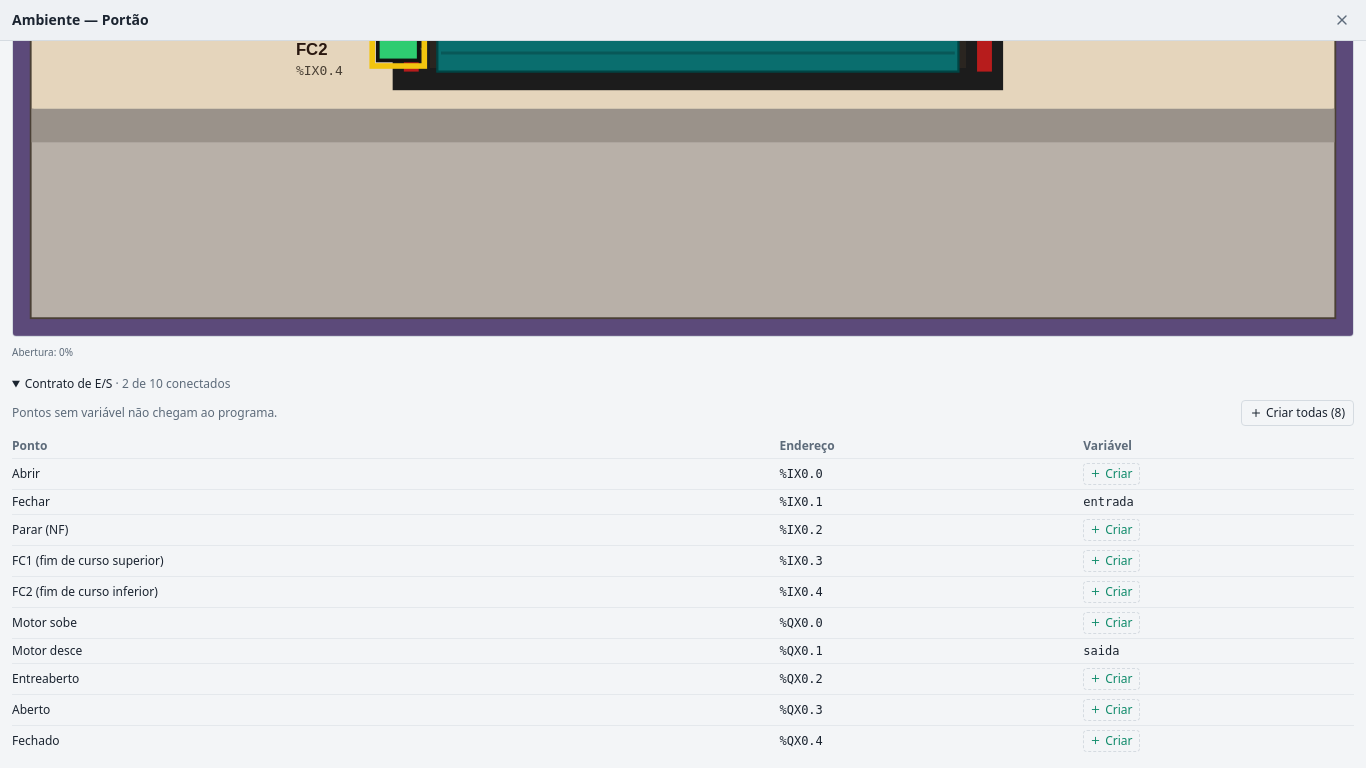
it: PainelAmbiente — contrato de E/S (revisão 2026-09-23) › recusa do núcleo fica no modal, junto do campo de nome
(page scrolled)
Step 1. Click the button with aria-label "Criar variável para Abrir (%IX0.0)" → (1111, 474), box [1083,463,1140,485]
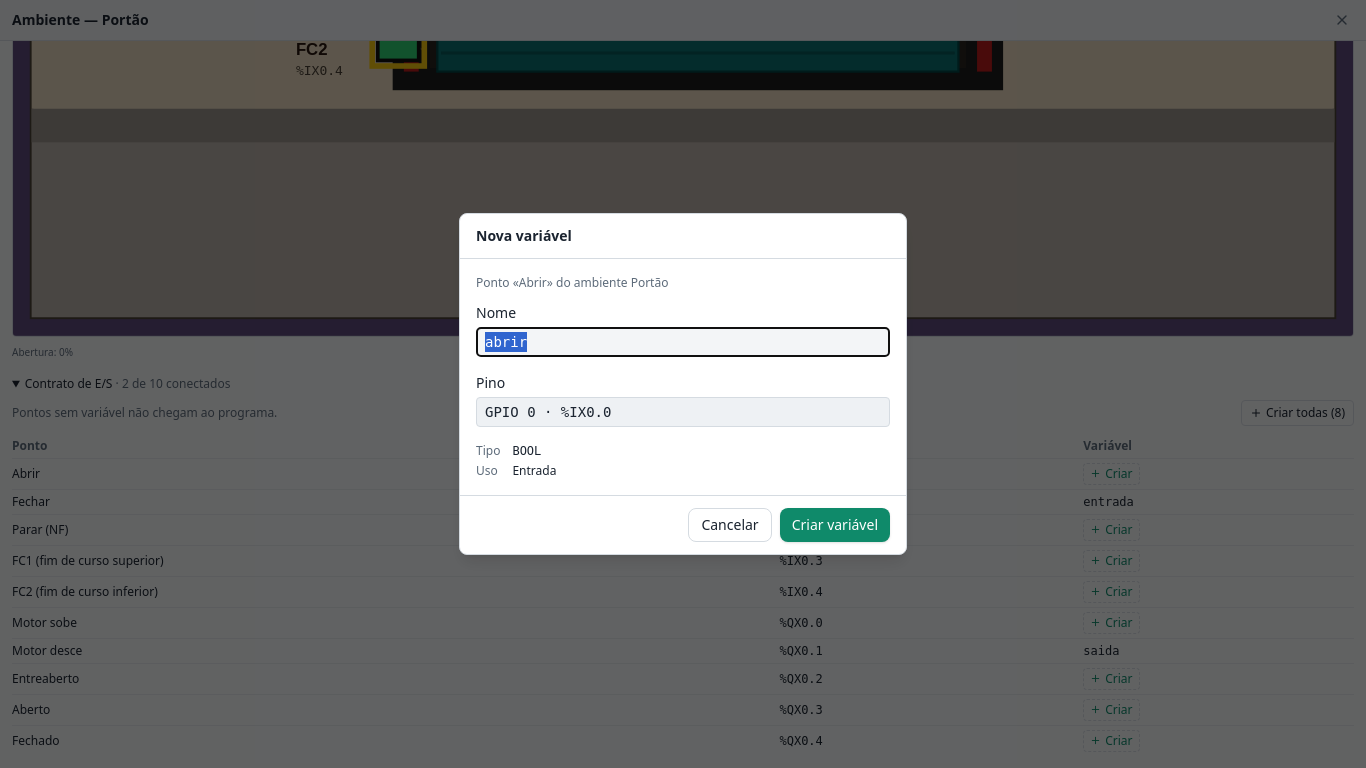
Step 2. Click the button "Criar variável" → (835, 525), box [780,508,890,542]
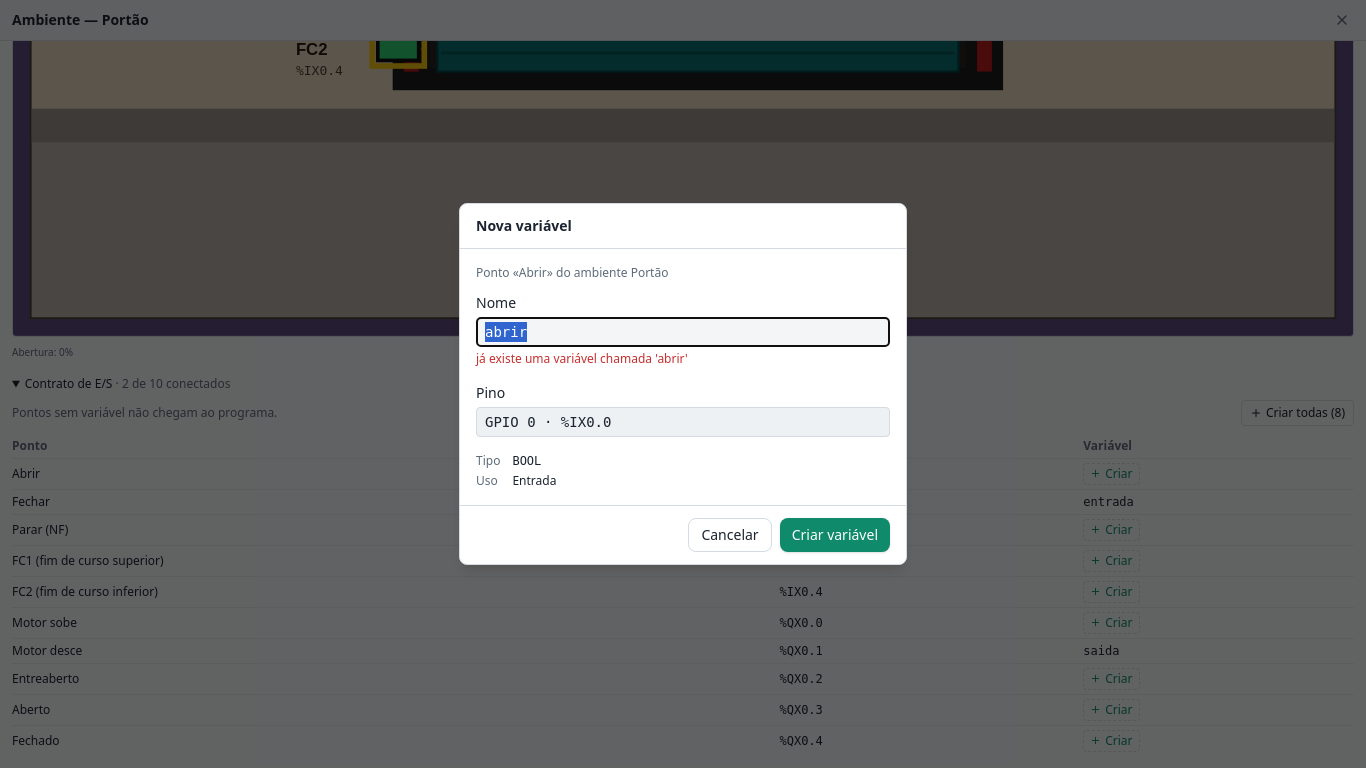
Expected: the text "já existe uma variável chamada 'abrir'" is shown, [476,350,688,367]
